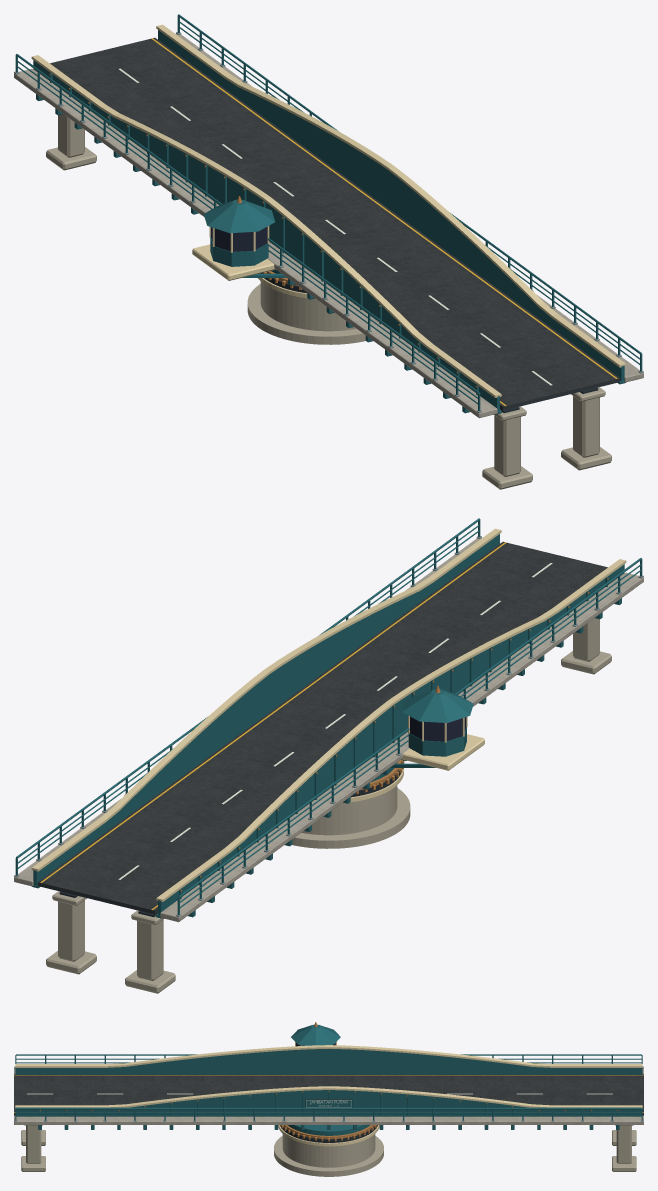
The picture shows the model from 3 angles, top to bottom: view 1: azimuth 30°, elevation 25°; view 2: azimuth 150°, elevation 25°; view 3: azimuth 270°, elevation 25°; orthographic projection. The views are drawn at different scales.
Visible parts, largest first — view 1: Running course, Fishbelly parapet girders, Maintenance walk, Flanged top plates, Longitudinal handrails, Circular swing pier, Chamfered pier, Pile cap, Octagonal control cabin, Keeper lantern roof, Railing stanchions, Riveted stiffener blades (+3 smaller); view 2: Running course, Fishbelly parapet girders, Maintenance walk, Flanged top plates, Longitudinal handrails, Circular swing pier, Chamfered pier, Pile cap, Octagonal control cabin, Keeper lantern roof, Railing stanchions, Riveted stiffener blades (+3 smaller); view 3: Fishbelly parapet girders, Running course, Maintenance walk, Longitudinal handrails, Flanged top plates, Circular swing pier, Chamfered pier, Pile cap, Keeper lantern roof, Railing stanchions, Riveted stiffener blades, Edge lines (+3 smaller).
Part boxes in pixels (x1,y1,x2,y2): Running course: [50, 37, 620, 410]; Fishbelly parapet girders: [33, 30, 624, 411]; Maintenance walk: [14, 33, 643, 418]; Flanged top plates: [31, 24, 626, 397]; Longitudinal handrails: [16, 14, 641, 404]; Circular swing pier: [247, 270, 365, 344]; Chamfered pier: [58, 114, 599, 476]; Pile cap: [46, 147, 611, 489]; Octagonal control cabin: [210, 227, 268, 266]; Keeper lantern roof: [203, 199, 275, 233]; Railing stanchions: [15, 16, 642, 411]; Riveted stiffener blades: [50, 72, 478, 395]; Running course: [37, 541, 607, 914]; Fishbelly parapet girders: [33, 534, 624, 915]; Maintenance walk: [14, 537, 643, 922]; Flanged top plates: [31, 528, 626, 901]; Longitudinal handrails: [16, 518, 641, 908]; Circular swing pier: [292, 760, 410, 848]; Chamfered pier: [58, 618, 599, 980]; Pile cap: [46, 651, 611, 993]; Octagonal control cabin: [408, 716, 466, 756]; Keeper lantern roof: [402, 689, 473, 722]; Railing stanchions: [15, 520, 642, 915]; Riveted stiffener blades: [179, 576, 607, 899]; Fishbelly parapet girders: [15, 1049, 642, 1115]; Running course: [14, 1074, 643, 1115]; Maintenance walk: [14, 1067, 643, 1124]; Longitudinal handrails: [16, 1054, 641, 1116]; Flanged top plates: [15, 1045, 642, 1108]; Circular swing pier: [274, 1125, 383, 1176]; Chamfered pier: [26, 1125, 631, 1163]; Pile cap: [21, 1130, 636, 1171]; Keeper lantern roof: [291, 1024, 340, 1045]; Railing stanchions: [15, 1055, 642, 1120]; Riveted stiffener blades: [39, 1090, 618, 1115]; Edge lines: [14, 1075, 643, 1112].
Size of the model in its own units: 12.76 by 8.29 by 48.
Materials: 13 (2 with a texture image).
